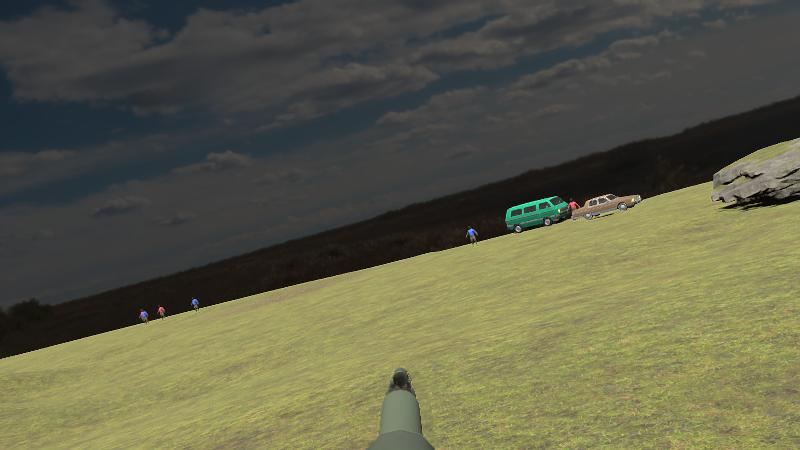car: (506, 196, 571, 234), (573, 193, 641, 220)
